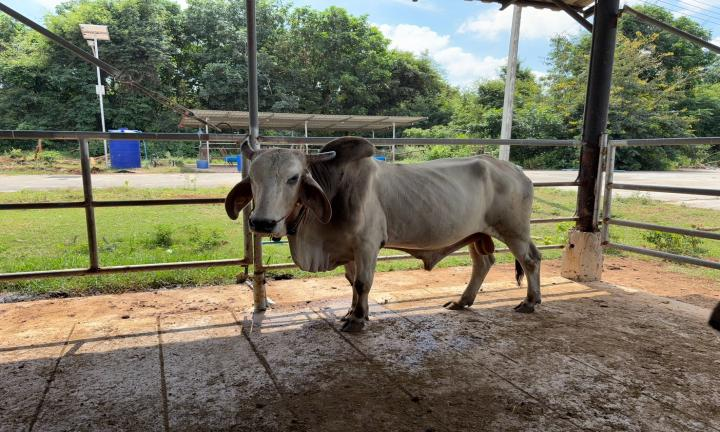Brahman: (225, 136, 541, 331)
